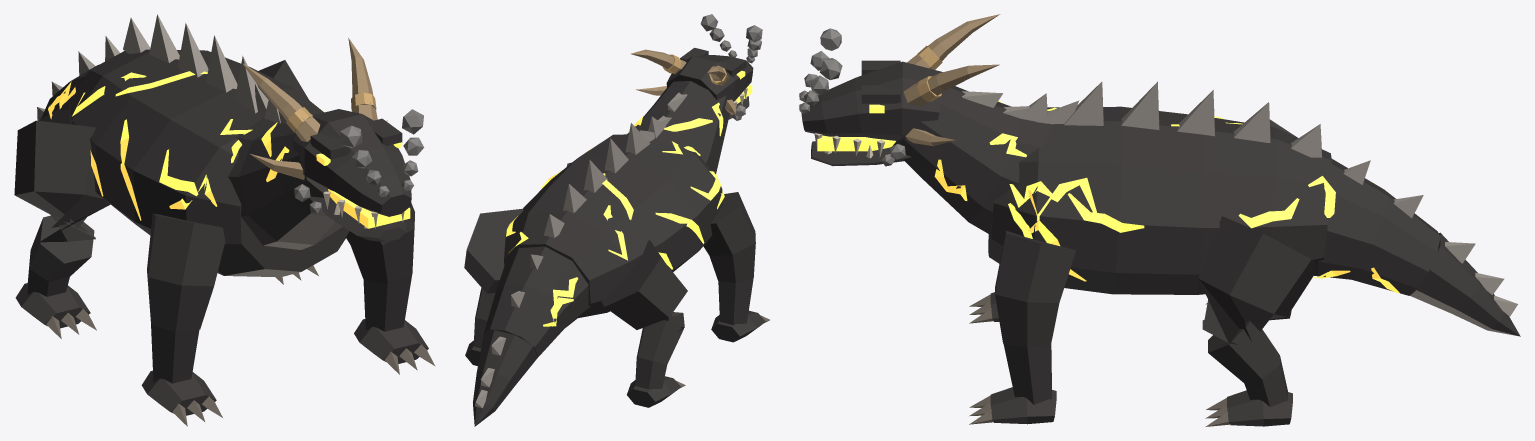
The model's file is cr-ashwyrm.glb.
3 views of the same model, side by side, from view 1: azimuth 30°, elevation 25°; view 2: azimuth 150°, elevation 25°; view 3: azimuth 270°, elevation 25° (orthographic). The views are drawn at different scales.
Visible parts, largest first — view 1: body, leg_rr_upper, neck, head, leg_fr_upper, spines_back, leg_rr_lower, horns, cracks_body, leg_fl_upper, smoke, leg_fr_lower (+13 smaller); view 2: body, tail_1, leg_rr_upper, neck, leg_fr_upper, tail_2, leg_rl_upper, head, spines_back, leg_rr_lower, cracks_body, leg_fr_lower (+10 smaller); view 3: body, neck, tail_1, leg_rl_upper, head, leg_fl_upper, spines_back, tail_2, leg_rl_lower, cracks_body, horns, leg_fl_lower (+9 smaller).
Boxes of the visible parts, box(x1,y1,x2,y2) form: body: box(69, 49, 349, 277); leg_rr_upper: box(14, 120, 110, 242); neck: box(228, 117, 342, 249); head: box(292, 109, 411, 216); leg_fr_upper: box(147, 213, 225, 332); spines_back: box(123, 14, 280, 123); leg_rr_lower: box(27, 215, 94, 296); horns: box(242, 38, 387, 179); cracks_body: box(72, 71, 325, 220); leg_fl_upper: box(346, 203, 414, 283); smoke: box(294, 109, 424, 213); leg_fr_lower: box(151, 323, 199, 383); body: box(504, 134, 722, 317); tail_1: box(483, 246, 590, 357); leg_rr_upper: box(601, 240, 687, 331); neck: box(626, 81, 729, 173); leg_fr_upper: box(703, 192, 755, 282); tail_2: box(473, 330, 537, 426); leg_rl_upper: box(464, 209, 523, 293); head: box(666, 47, 753, 101); spines_back: box(544, 116, 665, 237); leg_rr_lower: box(635, 320, 683, 389); cracks_body: box(506, 141, 724, 269); leg_fr_lower: box(718, 276, 753, 324); body: box(988, 106, 1331, 294); neck: box(893, 86, 1051, 234); tail_1: box(1314, 159, 1440, 295); leg_rl_upper: box(1198, 216, 1318, 344); head: box(801, 60, 942, 140); leg_fl_upper: box(995, 230, 1075, 347); spines_back: box(1022, 81, 1321, 157); tail_2: box(1410, 232, 1520, 336); leg_rl_lower: box(1208, 320, 1287, 406); cracks_body: box(1008, 107, 1335, 281); horns: box(903, 14, 1000, 146); leg_fl_lower: box(1003, 343, 1051, 404).
Size of what is drawn, in the model's own units: 2.33 by 2.6 by 5.19.
